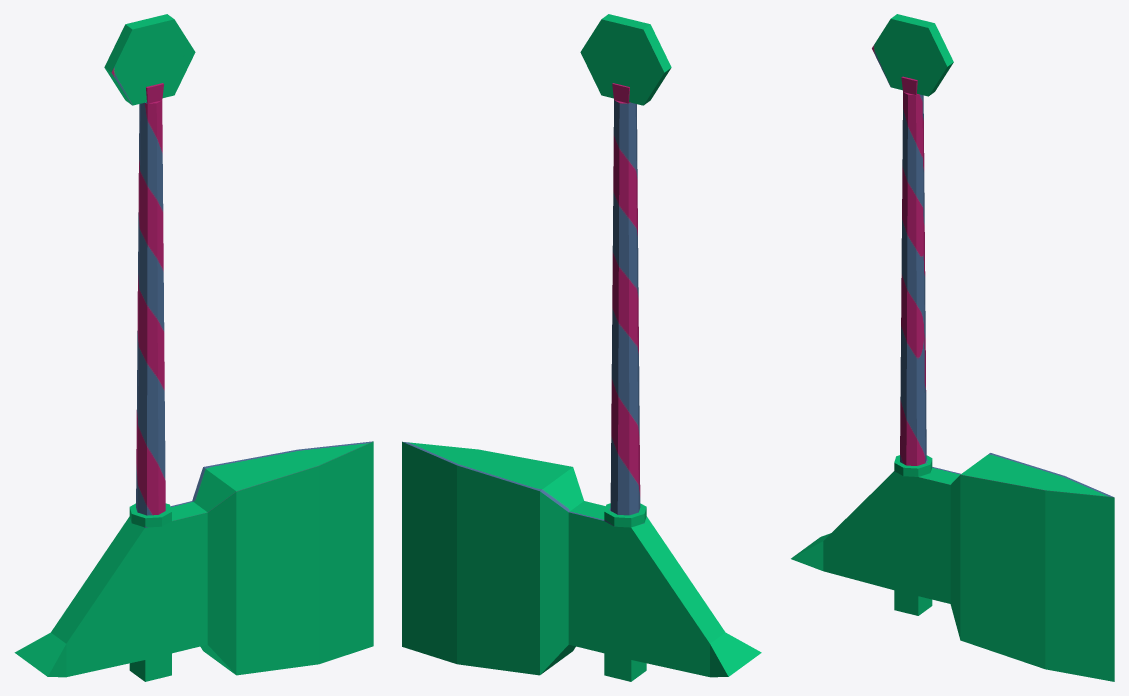
The model's file is topor.fbx.
3 renders of one model, left to right at view 1: azimuth 30°, elevation 25°; view 2: azimuth 150°, elevation 25°; view 3: azimuth 330°, elevation 25°, orthographic. The views are drawn at different scales.
Visible parts, largest first — view 1: Topor; view 2: Topor; view 3: Topor.
Part boxes in pixels (left/top/right/bottom): Topor: left=14, top=14, right=373, bottom=681; Topor: left=402, top=14, right=761, bottom=681; Topor: left=791, top=14, right=1114, bottom=681.
Bounding box in the file's own units: 409 × 775 × 68.85.
1 material, 1 textured.
